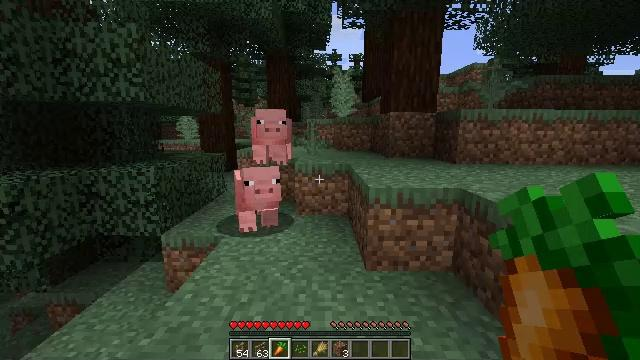pig: (234, 165, 280, 233), (252, 109, 293, 164)
